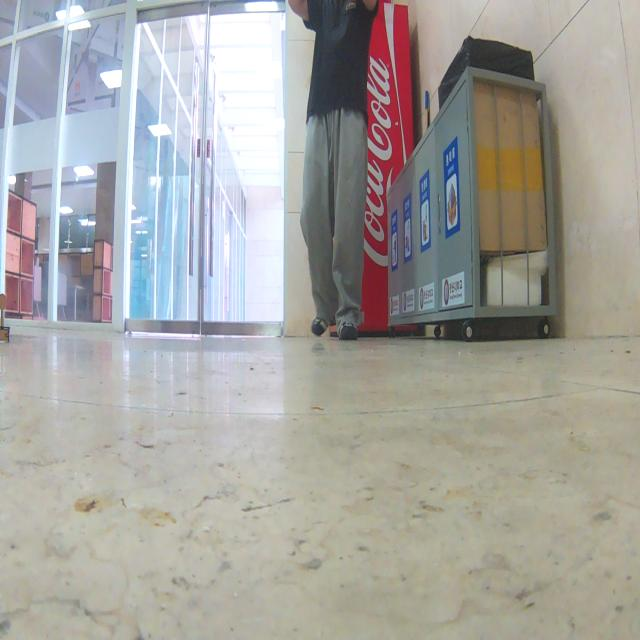target: (0, 293, 11, 344)
